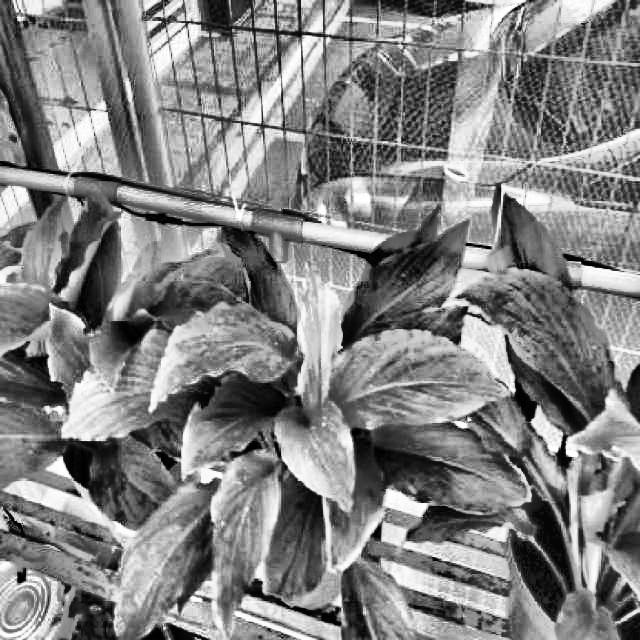plants: (60, 204, 534, 638), (395, 181, 639, 640)
